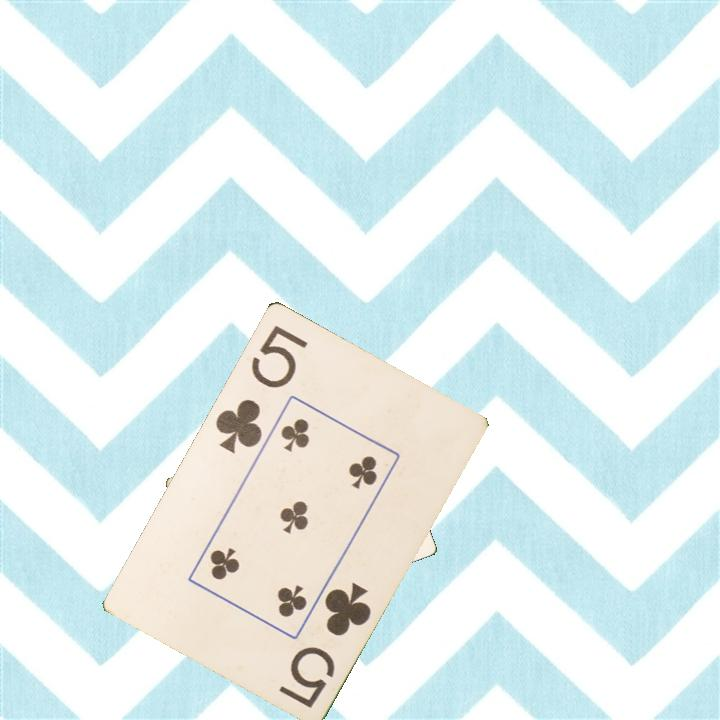5c: (211, 321, 311, 457), (275, 578, 374, 711)
